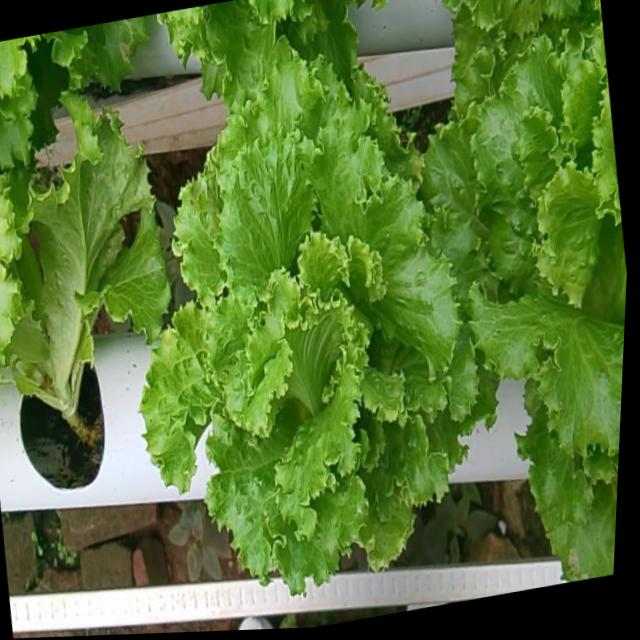Mature: (134, 69, 472, 611), (416, 49, 627, 481)
